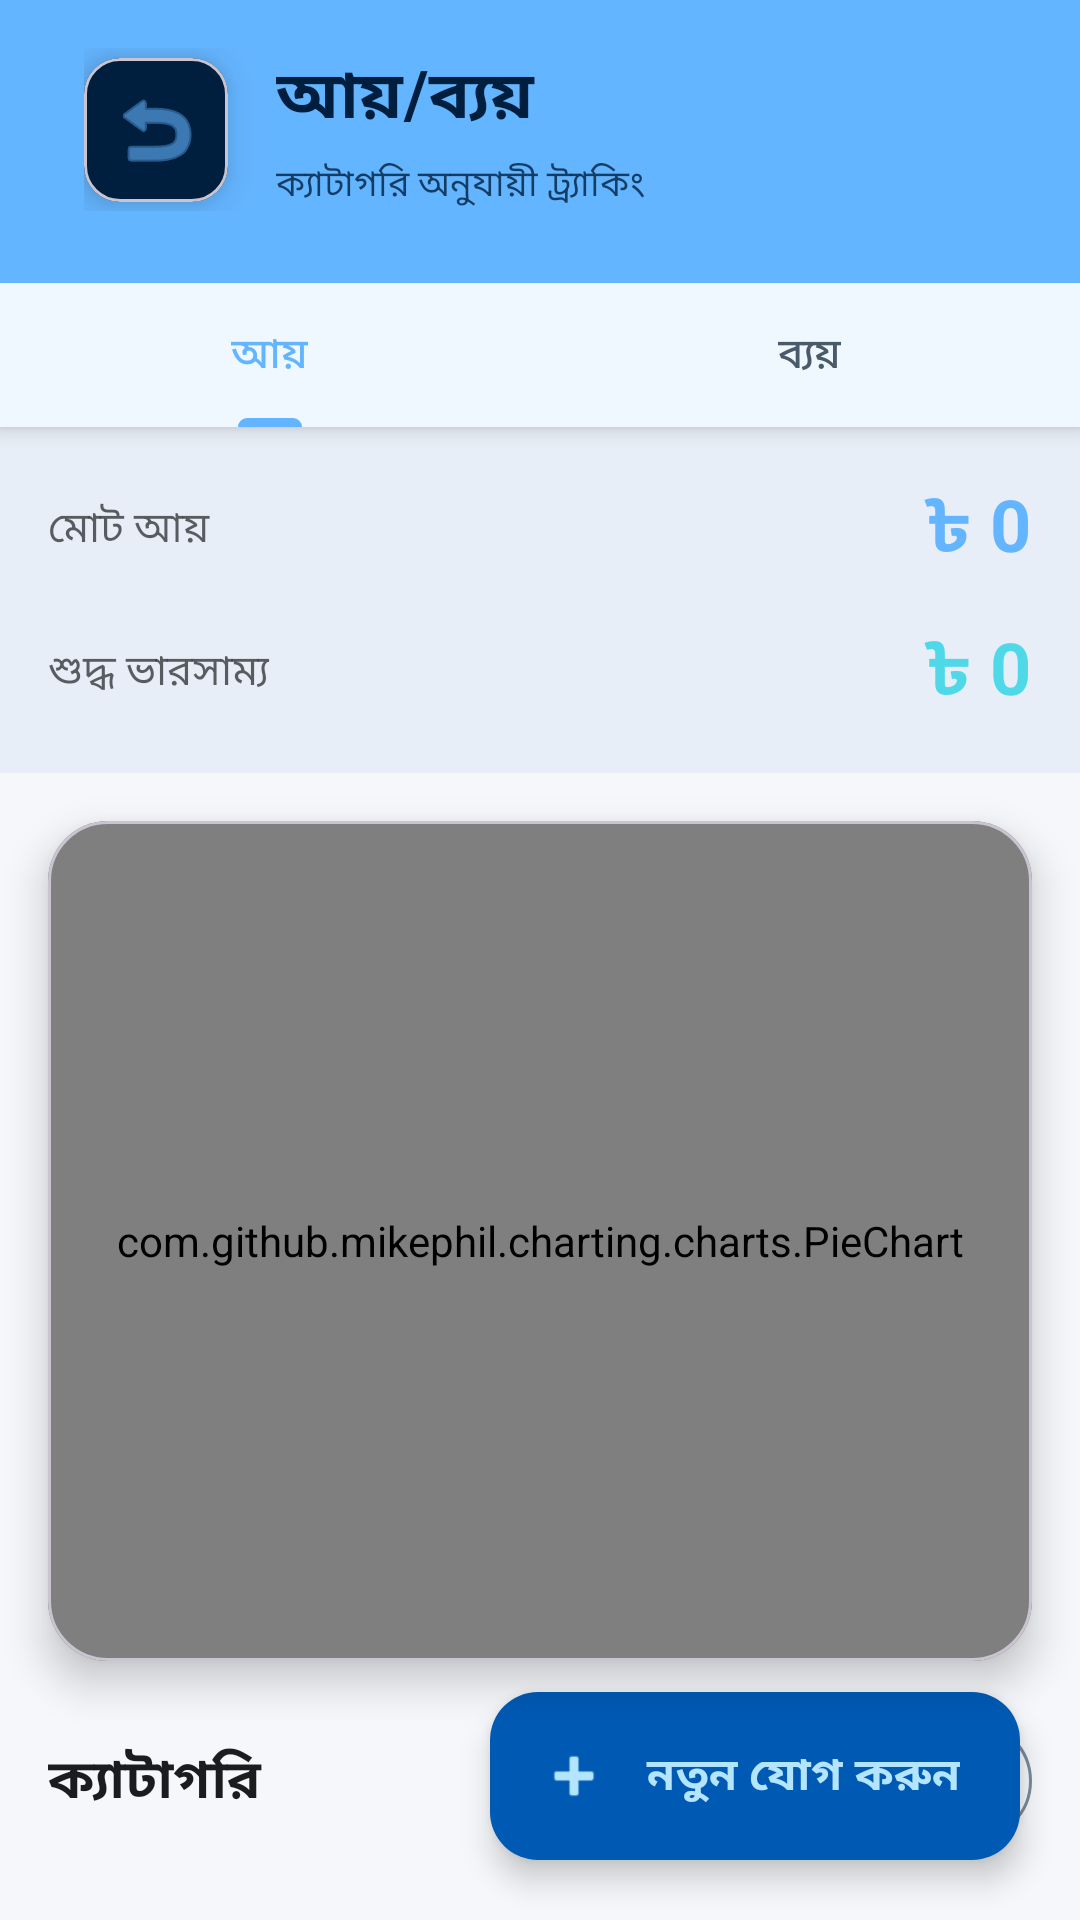

Locate icon controls on the screen. Image size 1080px×1920px, boxes as Rect(x1, y1, x2, y2).
Back: Rect(84, 58, 228, 202)
